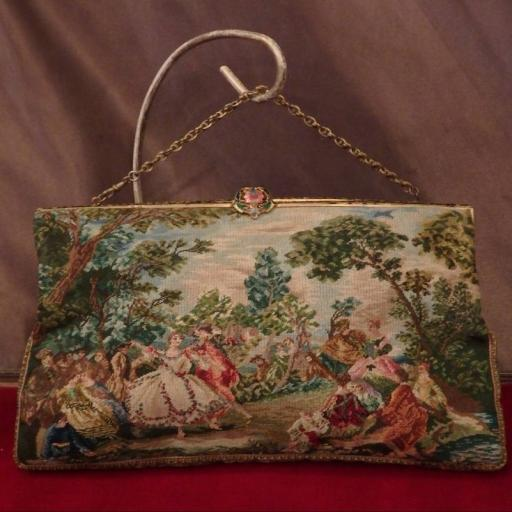door: (15, 87, 505, 469)
